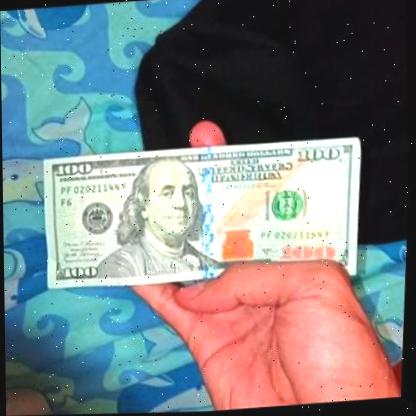one_hundred-front: (30, 132, 375, 302)
